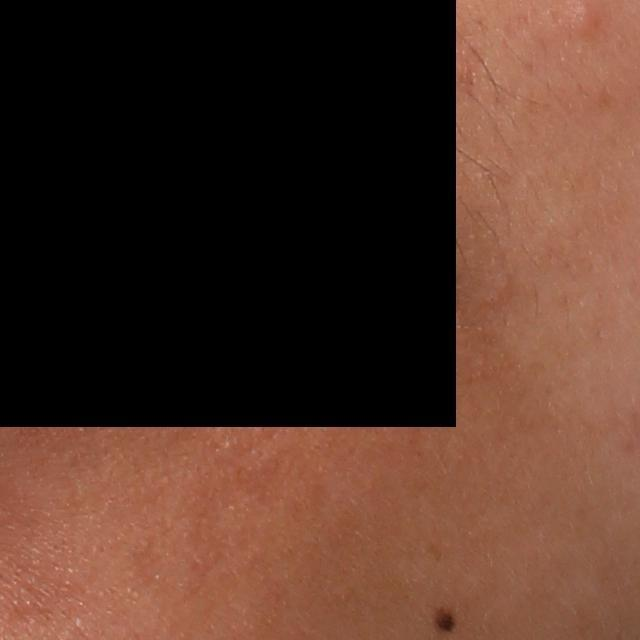nevus: (430, 607, 458, 633)
